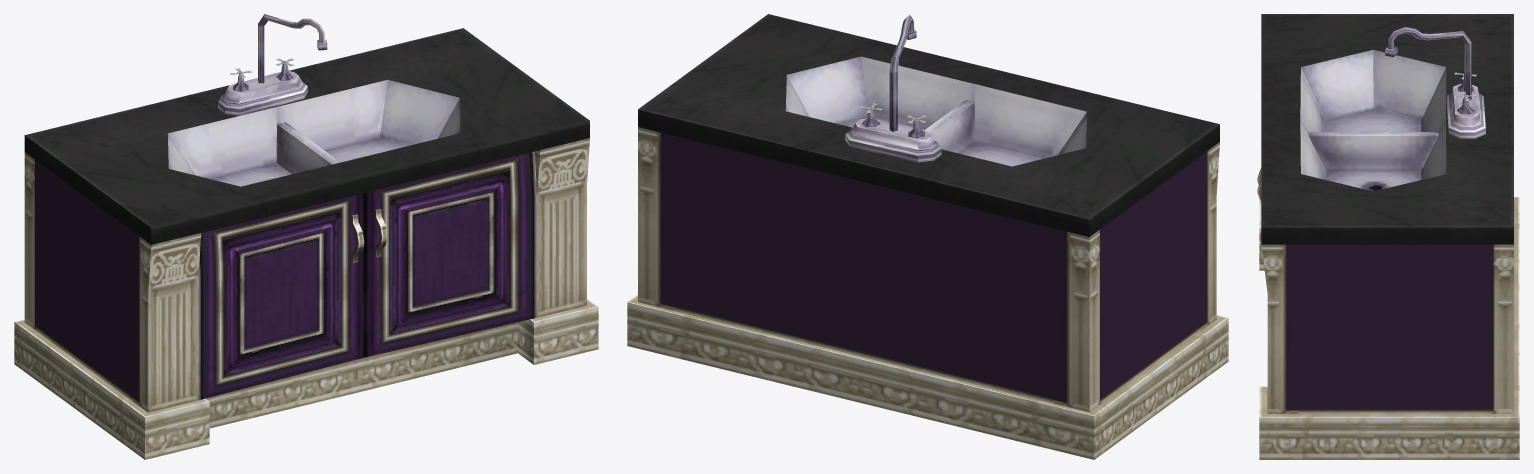
The model's file is furni_0201121_01.FBX.
The picture shows the model from 3 angles, left to right: view 1: azimuth 30°, elevation 25°; view 2: azimuth 150°, elevation 25°; view 3: azimuth 270°, elevation 25°; orthographic projection. The views are drawn at different scales.
Visible parts, largest first — view 1: furni_0201121_01; view 2: furni_0201121_01; view 3: furni_0201121_01.
Part boxes in pixels (x1,y1,x2,y2): furni_0201121_01: [14, 14, 598, 459]; furni_0201121_01: [627, 14, 1228, 459]; furni_0201121_01: [1257, 14, 1519, 459].
Bounding box in the file's own units: 165 × 115 × 83.15.
1 material, 1 textured.
